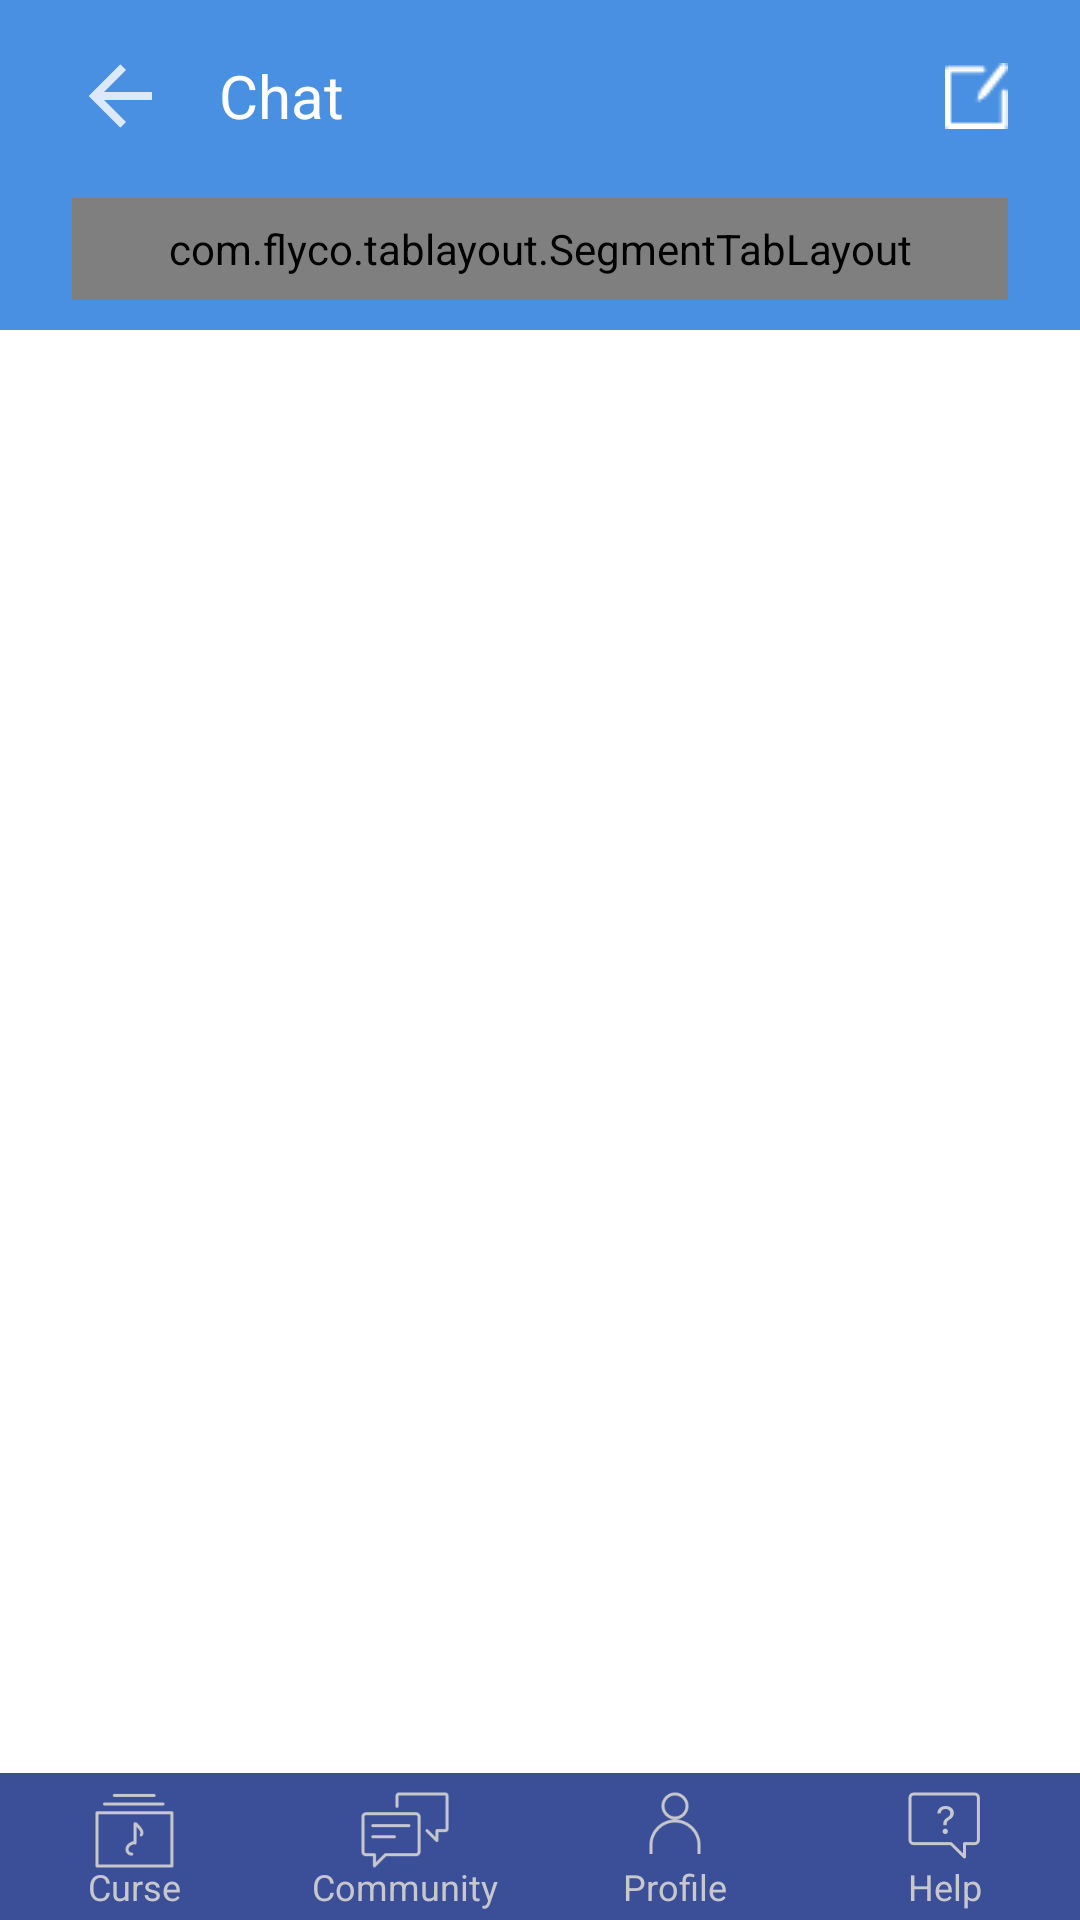

Locate icon controls on the screen. Image size 1080 x 1920, boxes as (x1, y1, x2, y2).
arrow left: (89, 64, 152, 128)
